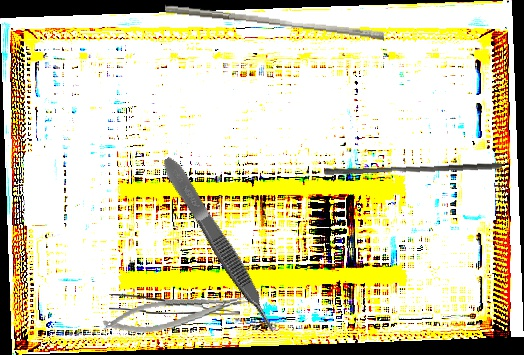Needle Holder: (100, 287, 254, 340)
Pusher: (163, 4, 386, 41), (323, 155, 503, 182)
Tissue Forceps: (158, 152, 282, 339), (108, 293, 241, 316)
